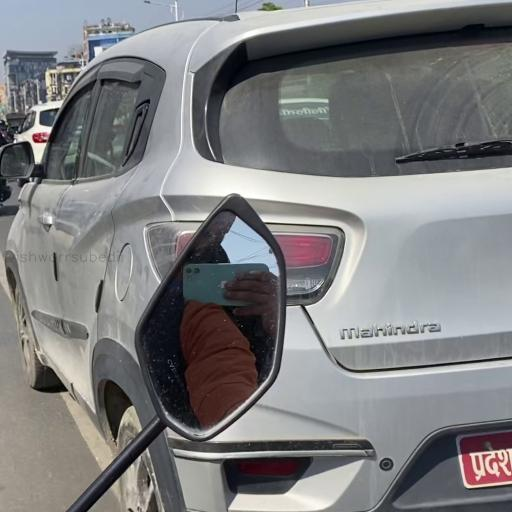license_plate: (454, 428, 512, 489)
